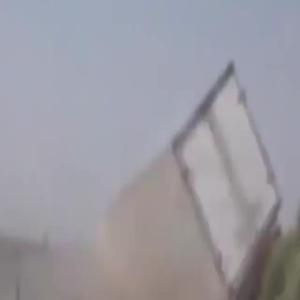serious: (43, 46, 284, 300)
